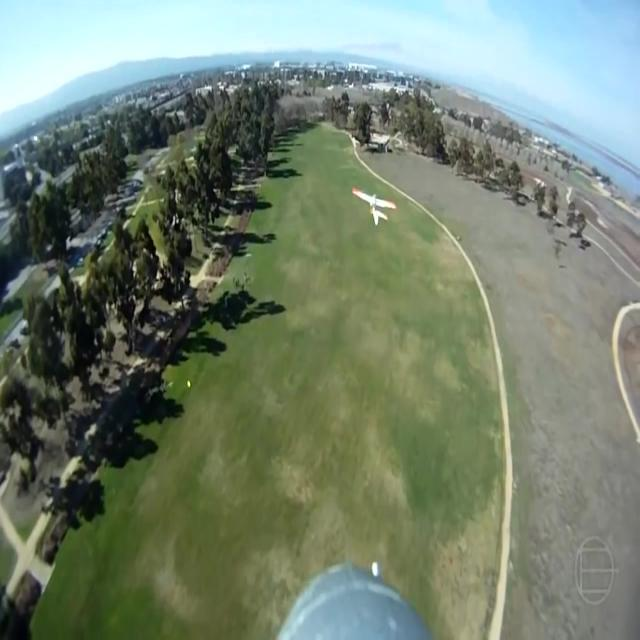iha: (351, 185, 397, 226)
